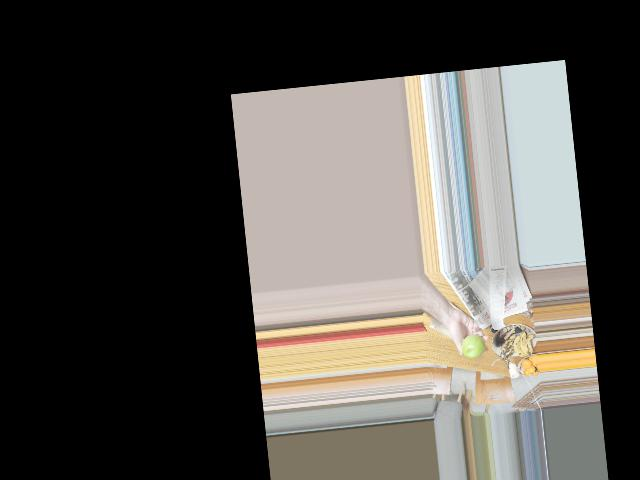apple: (459, 333, 487, 361)
